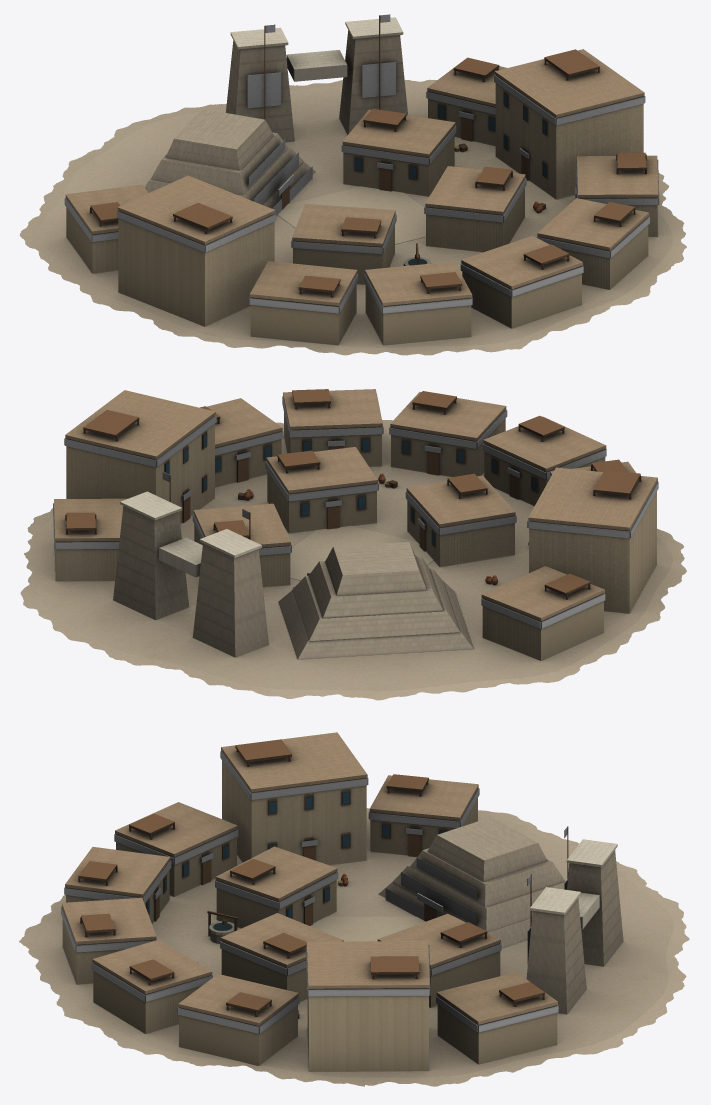
Rendered from bronze-town-medium-b-nile.glb.
3 renders of one model, top to bottom at view 1: azimuth 30°, elevation 25°; view 2: azimuth 150°, elevation 25°; view 3: azimuth 270°, elevation 25°, orthographic.
Parts seen in each view (by area): view 1: LOD0; view 2: LOD0; view 3: LOD0.
Part boxes in pixels (<box>): LOD0: <box>19,14,686,355</box>; LOD0: <box>20,389,686,700</box>; LOD0: <box>19,732,689,1086</box>.
Size of what is drawn, in the model's own units: 5.91 by 1.2 by 5.97.
3 materials, 3 textured.
